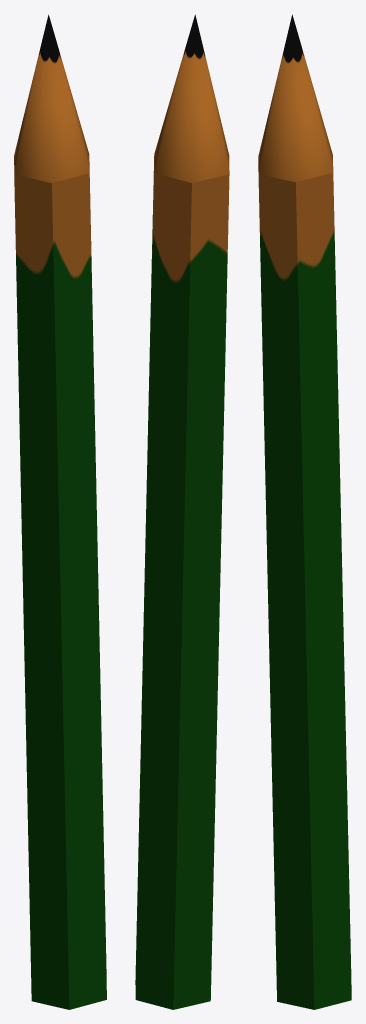
Rendered from dousakakuninn11.fbx.
3 views of the same model, side by side, from view 1: azimuth 30°, elevation 25°; view 2: azimuth 150°, elevation 25°; view 3: azimuth 330°, elevation 25° (orthographic).
Visible parts, largest first — view 1: pCylinder1; view 2: pCylinder1; view 3: pCylinder1.
Boxes of the visible parts, box(x1,y1,x2,y2) form: pCylinder1: box(14, 14, 106, 1009); pCylinder1: box(135, 14, 229, 1009); pCylinder1: box(258, 14, 351, 1009).
Bounding box in the file's own units: 1.21 × 12.16 × 0.8602.
1 material, 1 textured.
